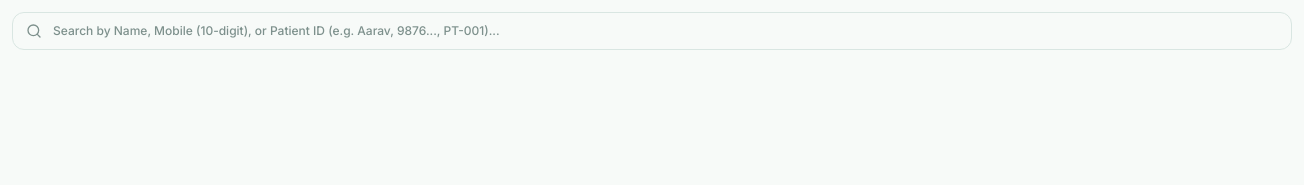
Test: PatientSearchSelector & Senior Appointment Booking UX › PatientSearchSelector Unit Tests › filters patients by MRN / Patient ID
Replace the text in the dropdown with "PT-003" at (652, 31), box [12, 12, 1292, 50]
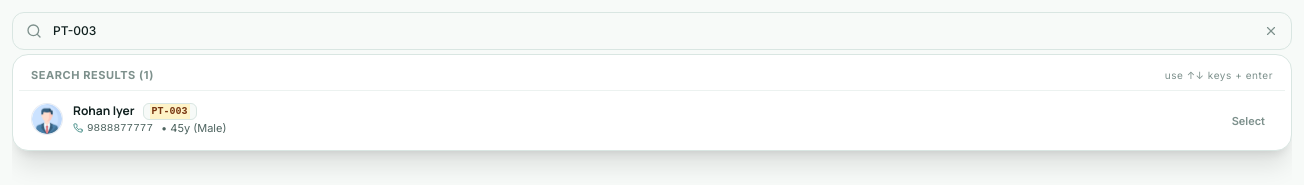
Check: the list is shown, box [12, 54, 1292, 151]
Check: the option shows "Rohan Iyer", box [19, 94, 1285, 144]
Check: the number of options is 1, box [19, 94, 1285, 144]
